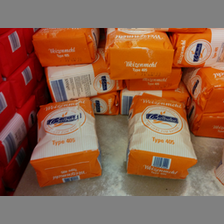flour: (30, 95, 103, 189), (124, 93, 198, 181), (106, 28, 175, 80)
